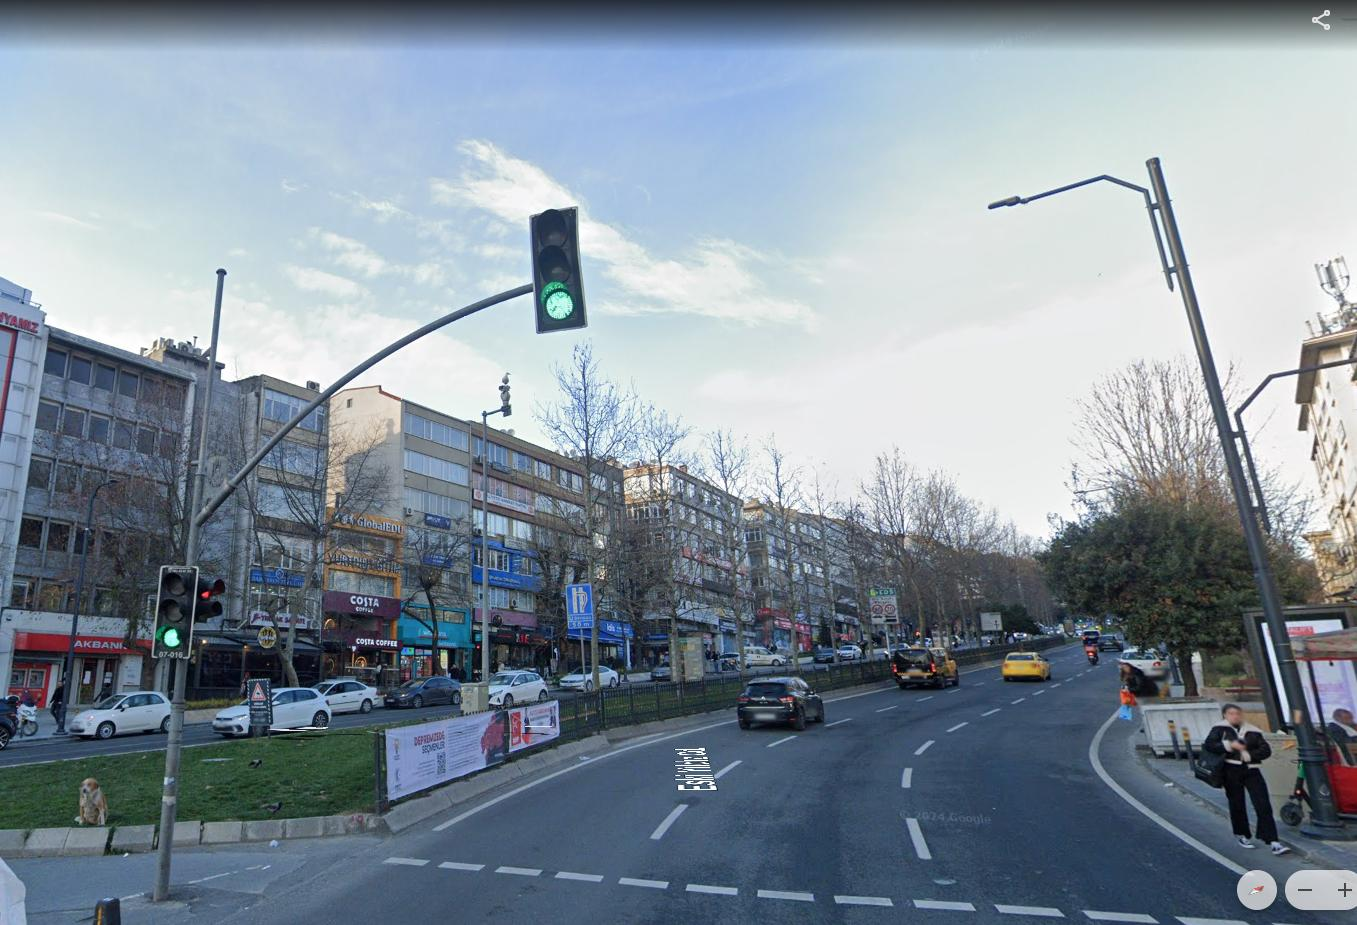greenlight: (530, 209, 582, 325), (157, 564, 191, 651)
